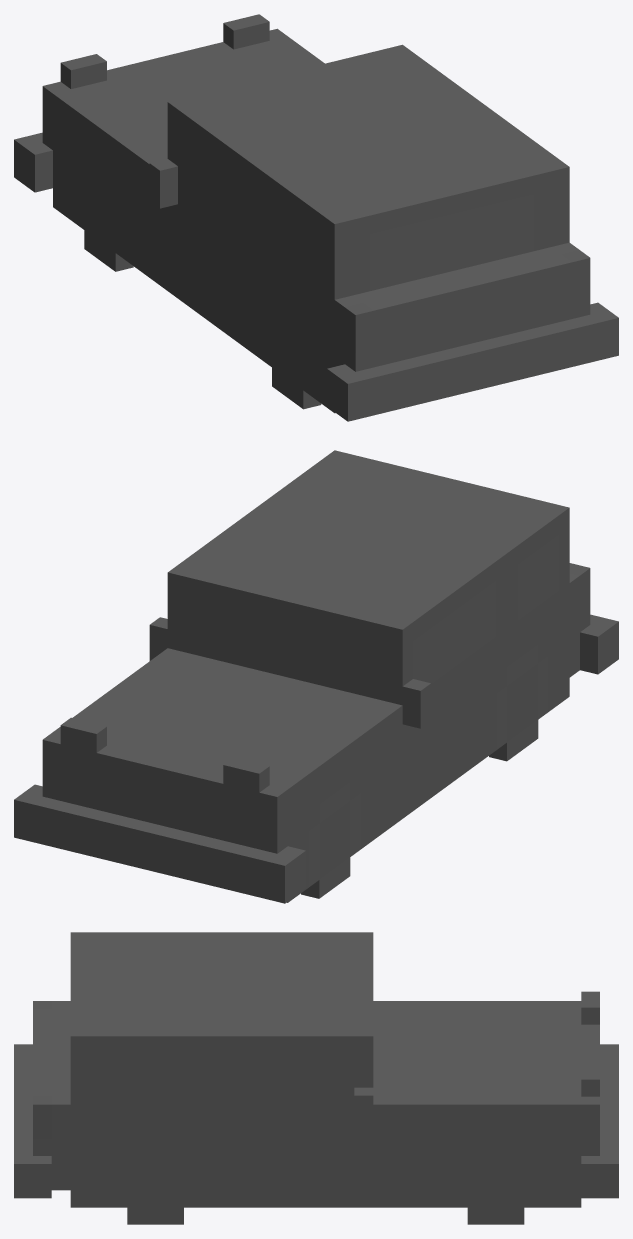
Rendered from veh_wagon2.obj.
3 renders of one model, top to bottom at view 1: azimuth 30°, elevation 25°; view 2: azimuth 150°, elevation 25°; view 3: azimuth 270°, elevation 25°, orthographic. The views are drawn at different scales.
Size of the model in its own units: 15 by 11 by 32.
